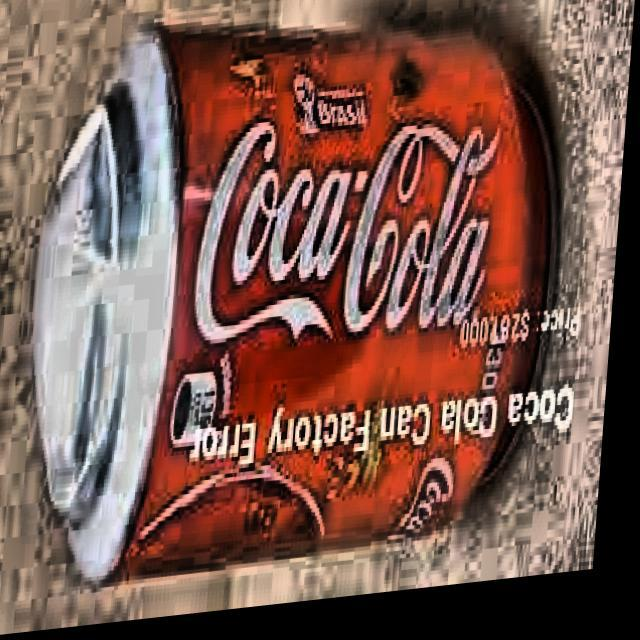can: (37, 14, 564, 598)
